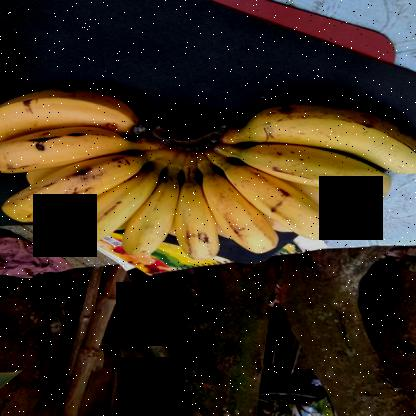freshripe: (246, 98, 415, 182), (1, 82, 138, 141)
